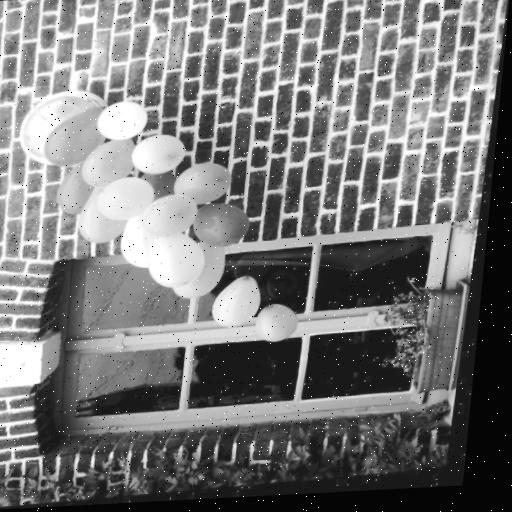balloon: (173, 241, 232, 303), (47, 102, 104, 166), (149, 228, 209, 287), (77, 184, 135, 242), (79, 138, 138, 187), (193, 201, 255, 247), (209, 277, 259, 329), (140, 196, 198, 238), (95, 179, 153, 221), (174, 162, 234, 202), (115, 214, 155, 271), (131, 135, 191, 173), (96, 100, 149, 143), (55, 162, 91, 216), (257, 305, 292, 346), (141, 167, 179, 202)
